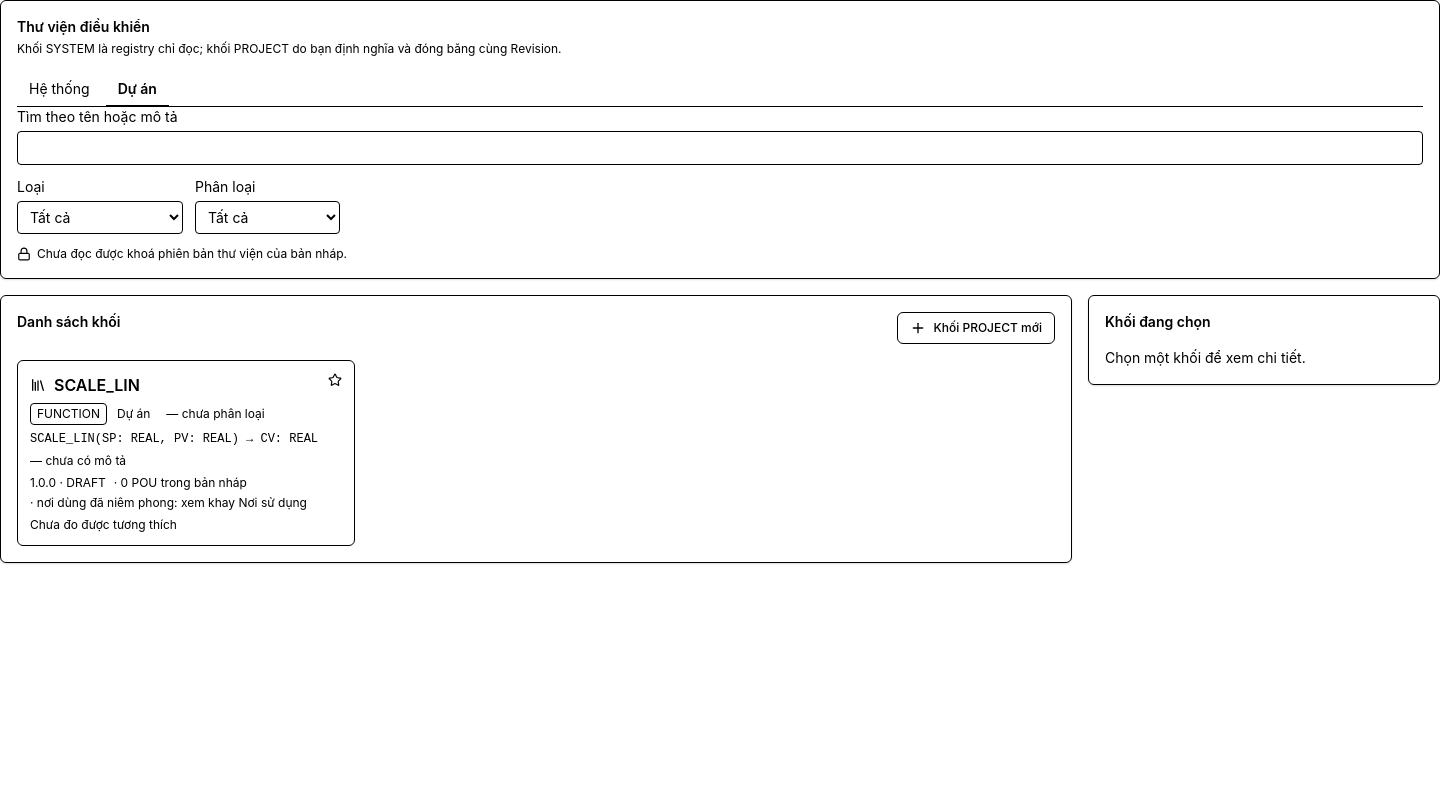
PGM-04 soạn thảo theo yêu cầu (T61-401) › không có form nào cho tới khi bấm Tạo, và Huỷ đóng nó lại
Check: the button with test id "library-block-card" is shown, box [17, 360, 355, 546]
Click the button "Khối PROJECT mới" at (976, 328), box [896, 312, 1055, 344]
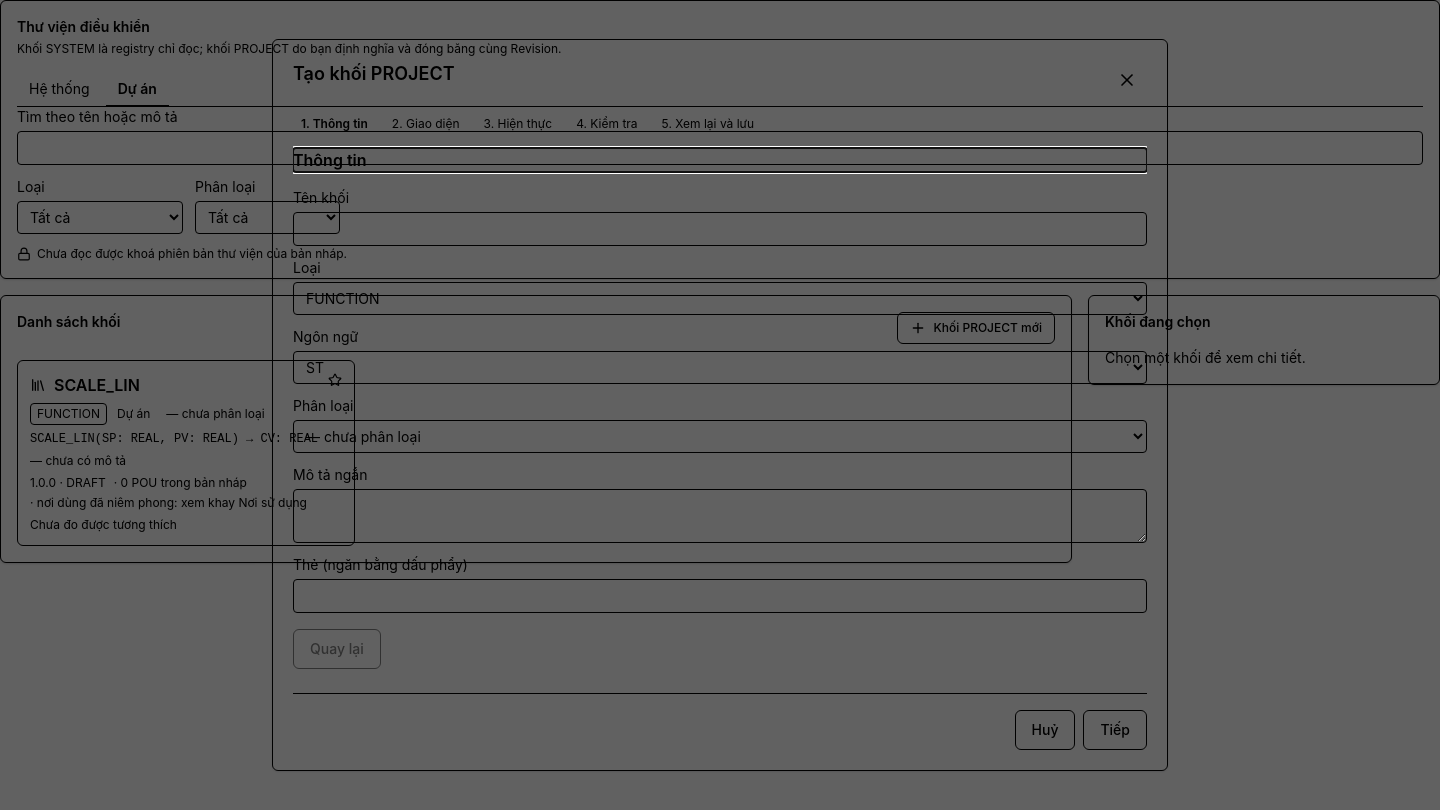
Check: the field labelled "Tên khối" is shown, box [293, 212, 1147, 246]
Click the button "Huỷ" at (1045, 730), box [1014, 710, 1075, 750]
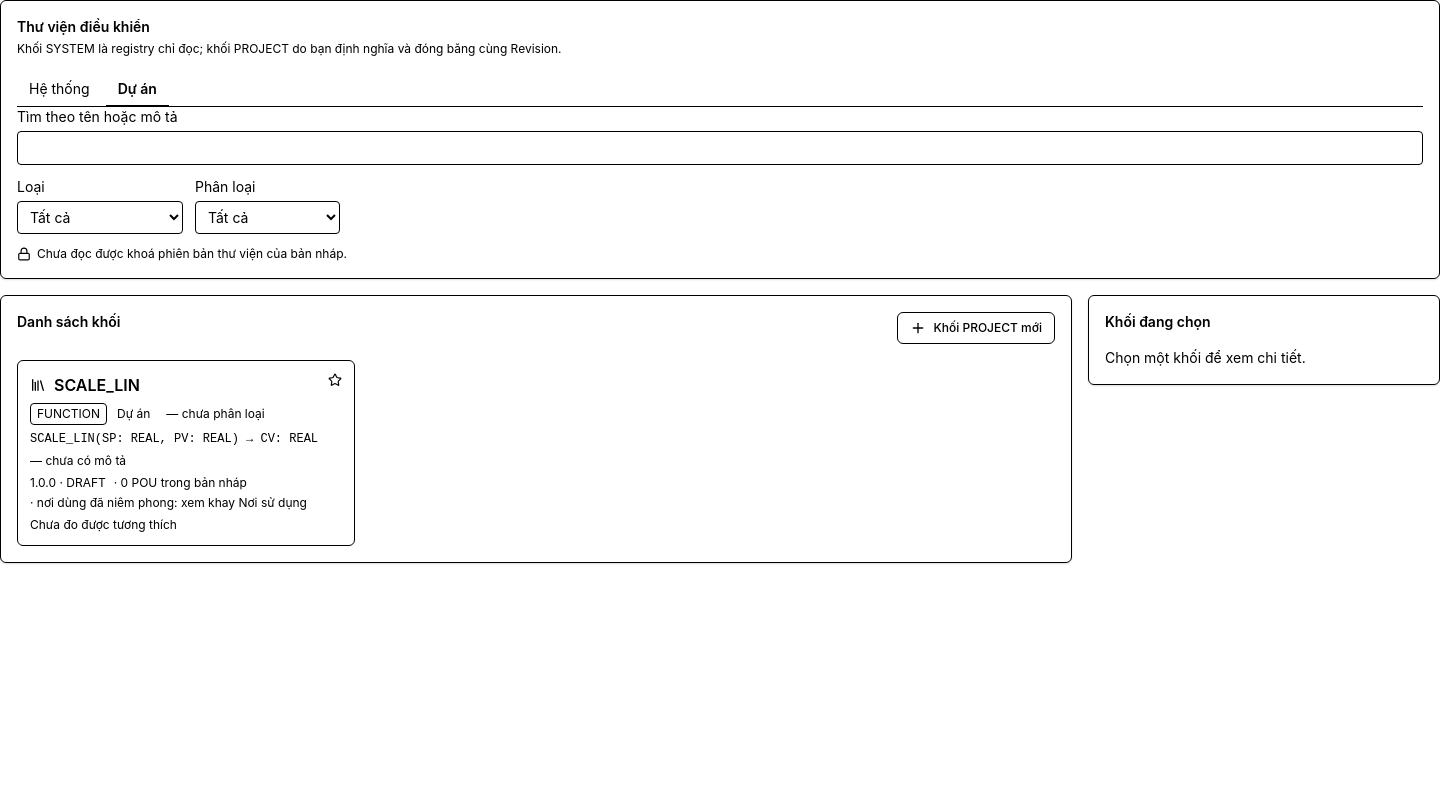
Check: the dialog is gone
